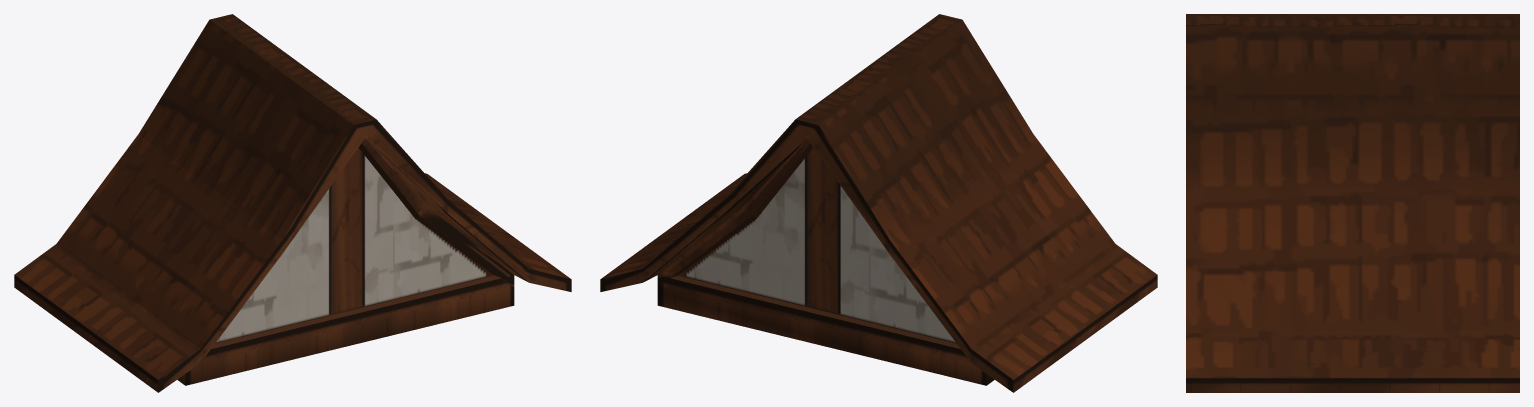
File: Large Roof.fbx
The picture shows the model from 3 angles, left to right: view 1: azimuth 30°, elevation 25°; view 2: azimuth 150°, elevation 25°; view 3: azimuth 270°, elevation 25°; orthographic projection. The views are drawn at different scales.
Parts seen in each view (by area): view 1: Big Roof Window.001; view 2: Big Roof Window.001; view 3: Big Roof Window.001.
Part boxes in pixels (box(x1,y1,x2,y2)): Big Roof Window.001: box(14, 14, 571, 392); Big Roof Window.001: box(600, 14, 1157, 392); Big Roof Window.001: box(1186, 14, 1519, 392).
Bounding box in the file's own units: 377 × 205 × 228.
